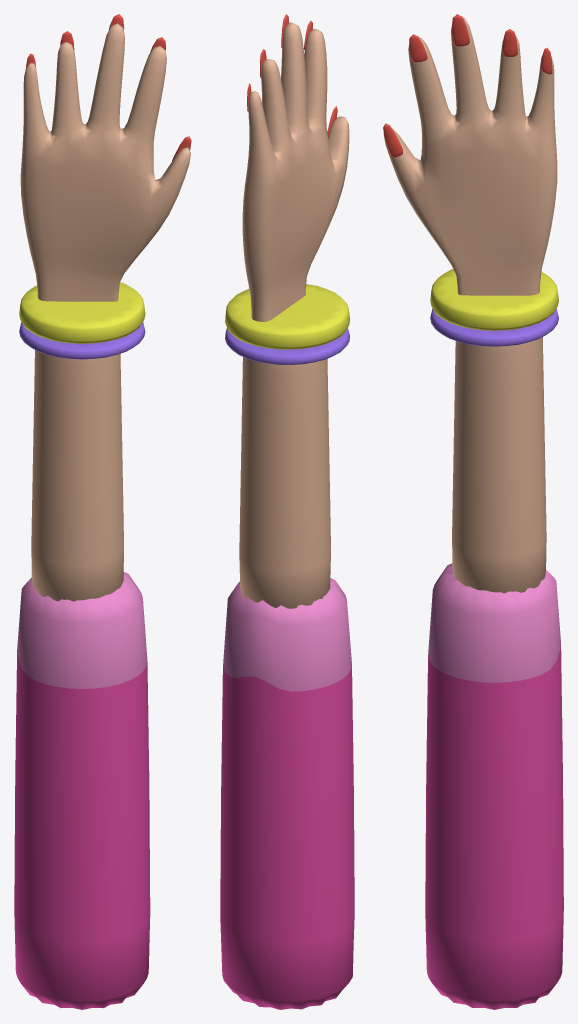
File: hand2.fbx
3 views of the same model, side by side, from view 1: azimuth 90°, elevation 25°; view 2: azimuth 150°, elevation 25°; view 3: azimuth 270°, elevation 25° (orthographic). The views are drawn at different scales.
Visible parts, largest first — view 1: Cube.007; view 2: Cube.007; view 3: Cube.007.
Boxes of the visible parts, box(x1,y1,x2,y2) form: Cube.007: box(14, 14, 191, 1009); Cube.007: box(220, 14, 354, 1009); Cube.007: box(383, 14, 563, 1009).
Size of the model in its own units: 209 by 1637 by 272.
